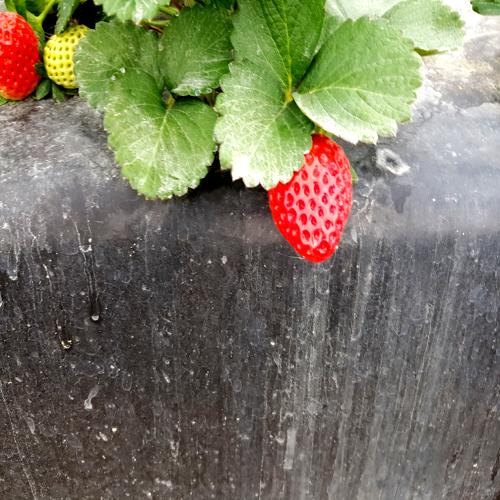ripe: (256, 122, 360, 270)
